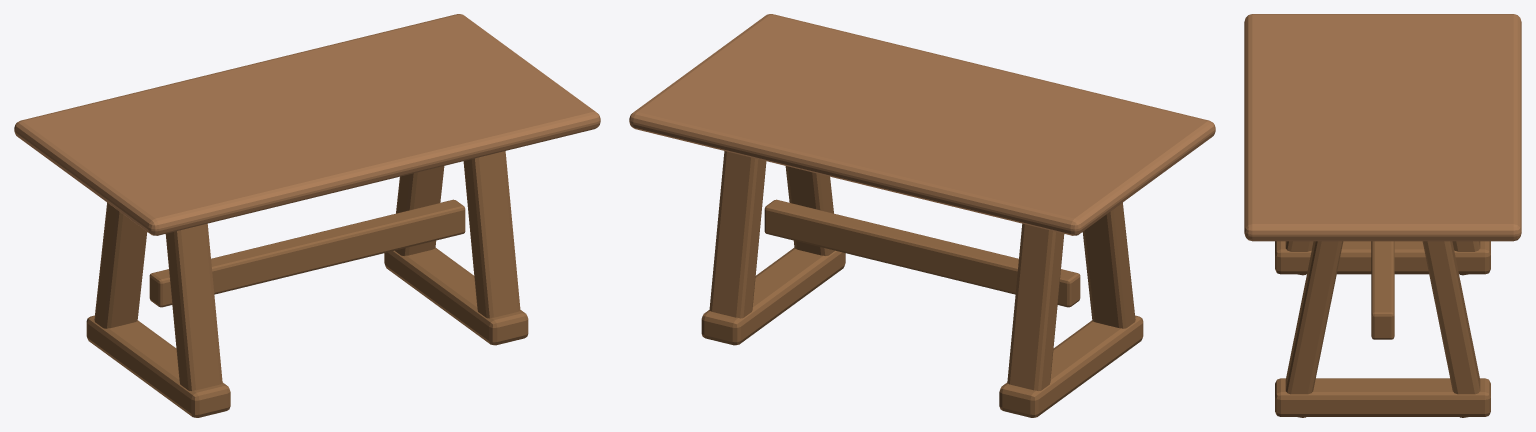
Rendered from table-dining.glb.
3 renders of one model, left to right at view 1: azimuth 30°, elevation 25°; view 2: azimuth 150°, elevation 25°; view 3: azimuth 270°, elevation 25°, orthographic.
Parts seen in each view (by area): view 1: table-dining; view 2: table-dining; view 3: table-dining.
Part boxes in pixels (<box>): table-dining: <box>14,14,600,417</box>; table-dining: <box>629,14,1215,417</box>; table-dining: <box>1244,14,1521,417</box>.
Bounding box in the file's own units: 1.55 × 0.74 × 0.84.
